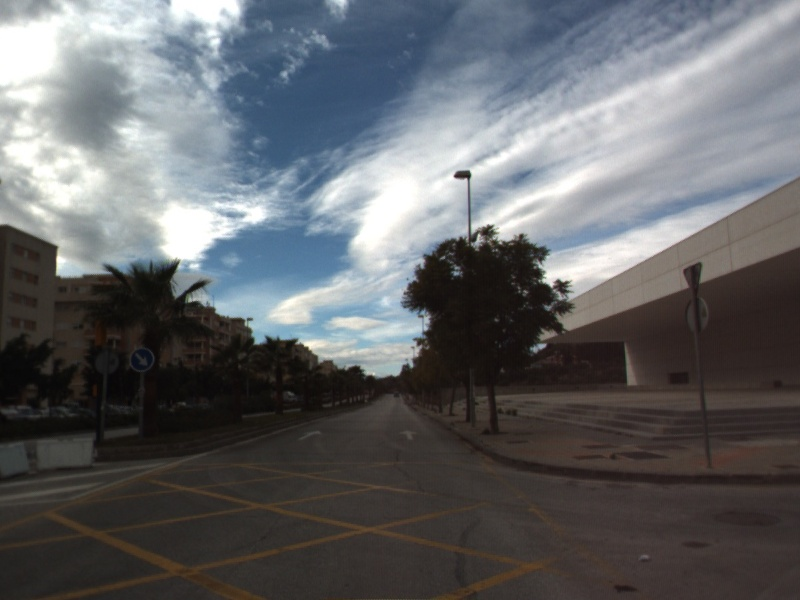STRAIGHT: (296, 428, 324, 442), (398, 428, 419, 442)
